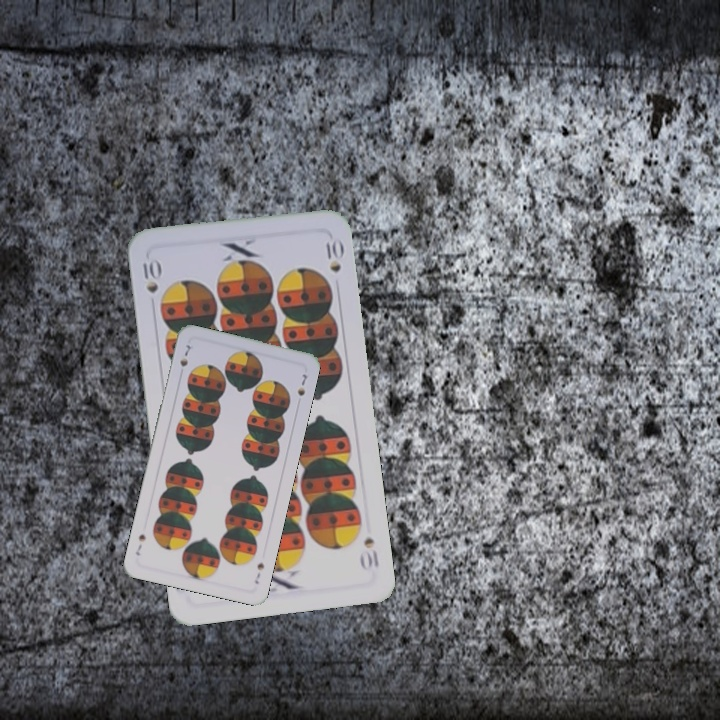S10: (356, 533, 382, 573), (139, 255, 162, 296)
S7: (176, 341, 196, 369), (251, 559, 267, 587)
